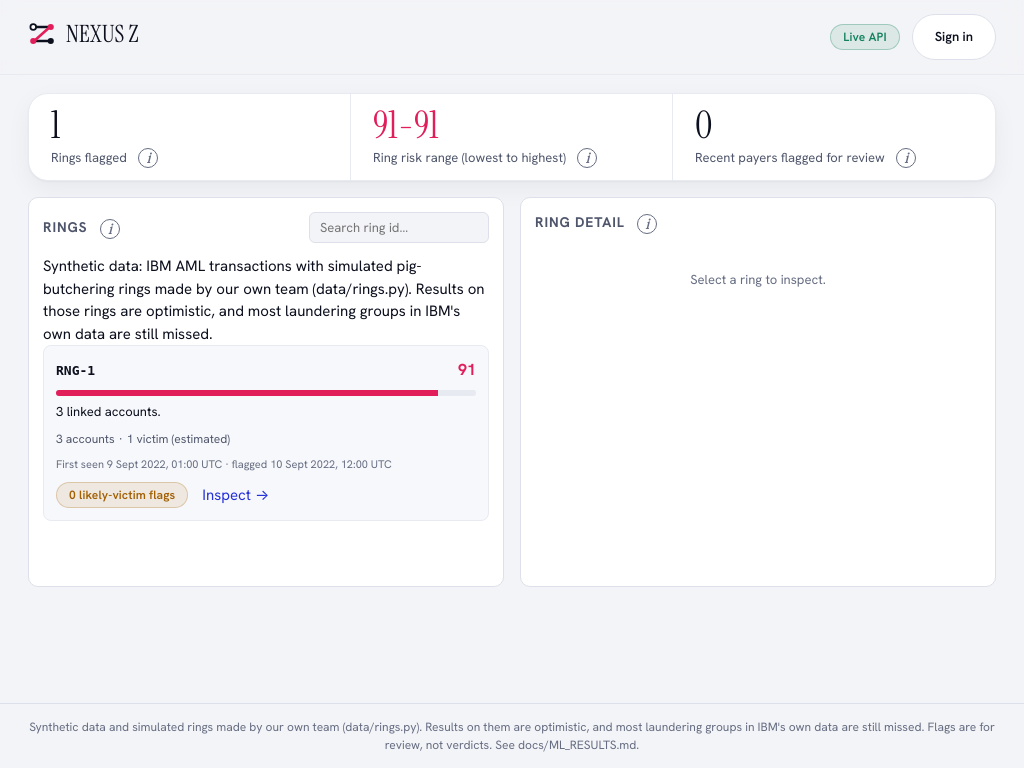
home page › loads the graph and the reasons of a ring when it is selected, and says likely-victim flags, not warnings
Click the text "RNG-1" at (76, 370), box [56,360,95,380]
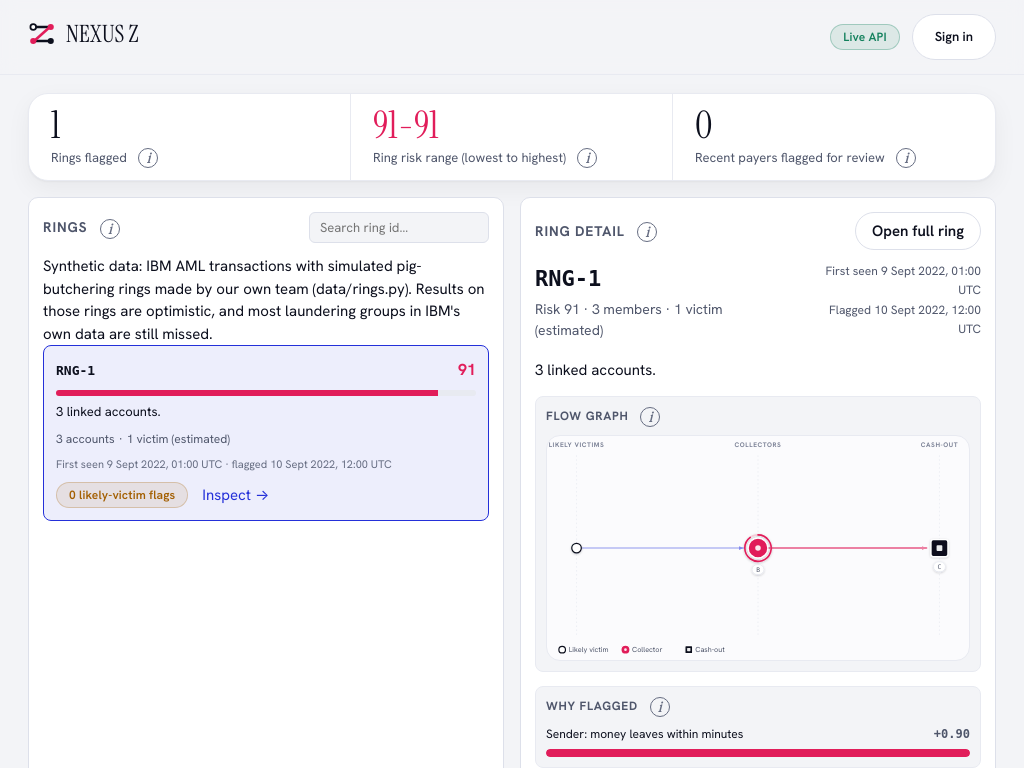
expect the text "likely-victim flags" is shown: met, box [79,487,175,503]
expect the text "Sender: money leaves within minutes" is shown: met, box [546,725,743,743]
expect the picture with class "d3-graph" is shown: met, box [546,435,970,661]
